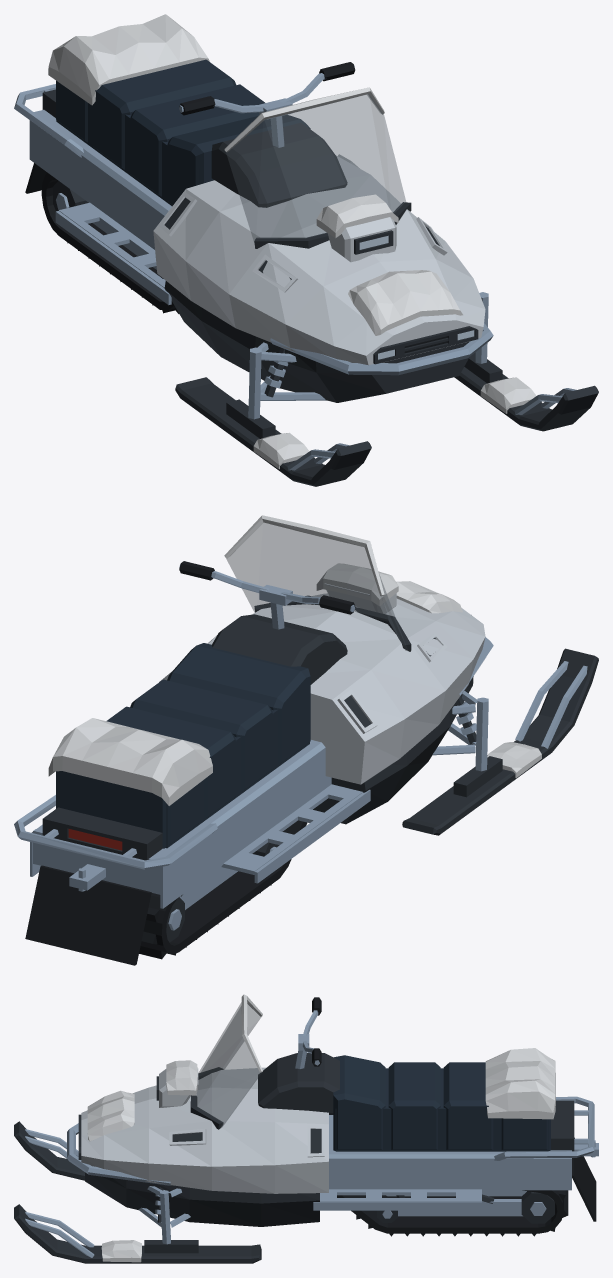
The model's file is snowmobile-e0fef3.glb.
3 renders of one model, top to bottom at view 1: azimuth 30°, elevation 25°; view 2: azimuth 150°, elevation 25°; view 3: azimuth 270°, elevation 25°, orthographic. The views are drawn at different scales.
Visible parts, largest first — view 1: machine, windscreen, ski-r, ski-l, handlebar, roller-r1-mesh; view 2: machine, ski-r, windscreen, handlebar, roller-r1-mesh; view 3: machine, ski-l, windscreen, ski-r, roller-l1-mesh, handlebar.
Boxes of the visible parts, bbox=[...] form: machine: bbox=[14, 14, 493, 402]; windscreen: bbox=[226, 94, 405, 240]; ski-r: bbox=[175, 347, 371, 486]; ski-l: bbox=[454, 292, 598, 431]; handlebar: bbox=[179, 62, 355, 119]; roller-r1-mesh: bbox=[53, 181, 88, 211]; machine: bbox=[14, 515, 493, 965]; ski-r: bbox=[402, 648, 598, 835]; windscreen: bbox=[226, 523, 407, 650]; handlebar: bbox=[179, 561, 355, 614]; roller-r1-mesh: bbox=[166, 897, 184, 942]; machine: bbox=[67, 994, 598, 1236]; ski-l: bbox=[14, 1190, 261, 1263]; windscreen: bbox=[196, 1002, 261, 1127]; ski-r: bbox=[14, 1121, 84, 1180]; roller-l1-mesh: bbox=[521, 1191, 554, 1223]; handlebar: bbox=[298, 997, 321, 1066].
Bounding box in the file's own units: 1.01 × 0.9995 × 2.6.
